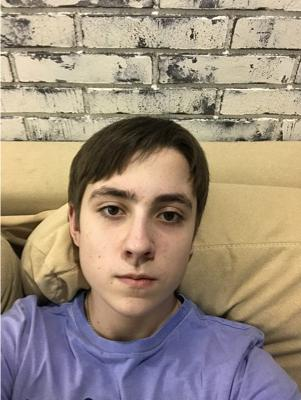without_mask: (81, 182, 197, 317)
